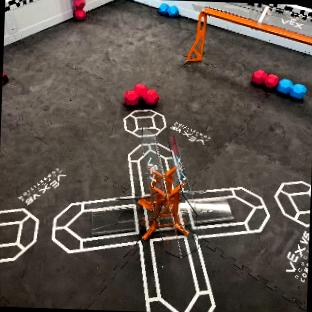V5_BLUE: (278, 78, 306, 99), (159, 4, 178, 16)
V5_RED: (123, 84, 158, 105), (252, 70, 279, 88)
